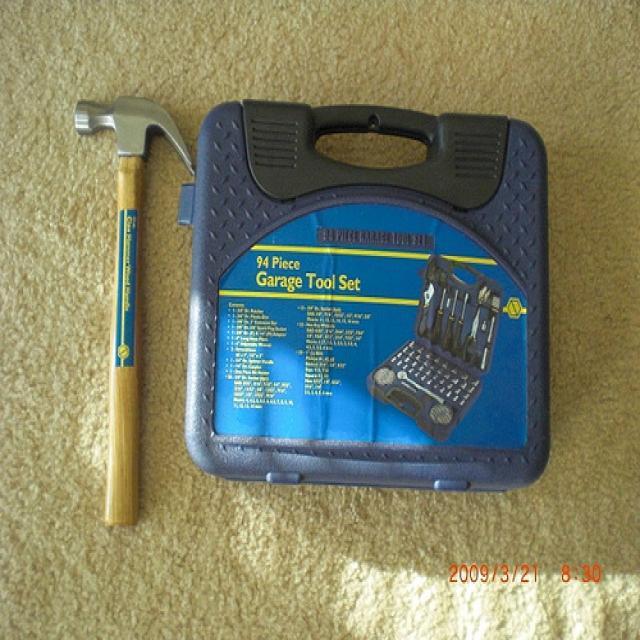hammer: (55, 77, 201, 554)
